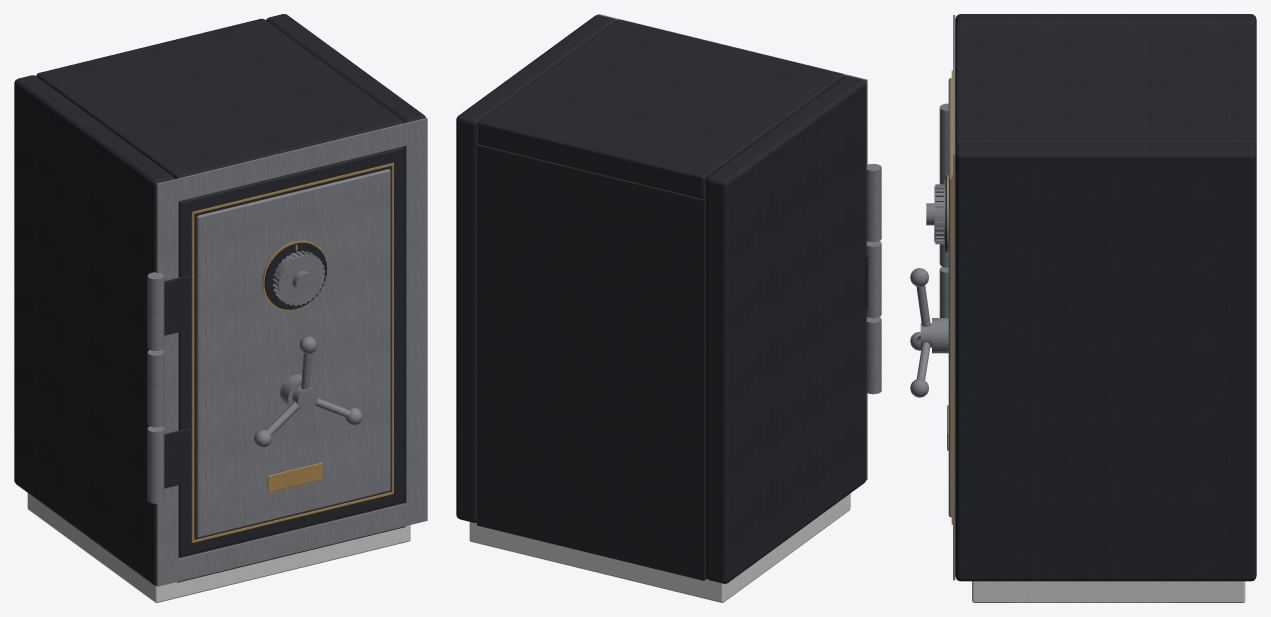
File: office_safe.glb
3 renders of one model, left to right at view 1: azimuth 30°, elevation 25°; view 2: azimuth 150°, elevation 25°; view 3: azimuth 270°, elevation 25°, orthographic. The views are drawn at different scales.
Visible parts, largest first — view 1: part_body_LOD0, part_door_LOD0; view 2: part_body_LOD0, part_door_LOD0; view 3: part_body_LOD0, part_door_LOD0.
Part boxes in pixels (box(x1,y1,x2,y2)): part_body_LOD0: box(14, 14, 427, 602); part_door_LOD0: box(147, 146, 404, 556); part_body_LOD0: box(456, 14, 881, 602); part_door_LOD0: box(866, 164, 881, 394); part_body_LOD0: box(939, 14, 1256, 602); part_door_LOD0: box(910, 70, 952, 524).
Size of what is drawn, in the model's own units: 0.62 by 0.9 by 0.6206.
Materials: 6 (6 with a texture image).
